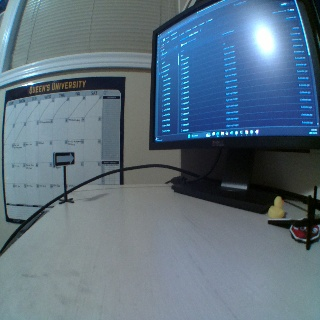sign_oneway_right: (53, 152, 76, 165)
